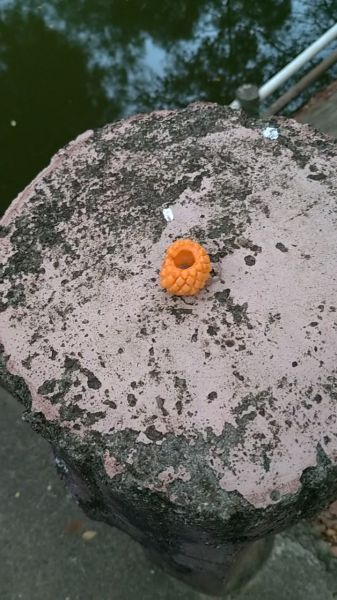eggs: (154, 235, 214, 300)
